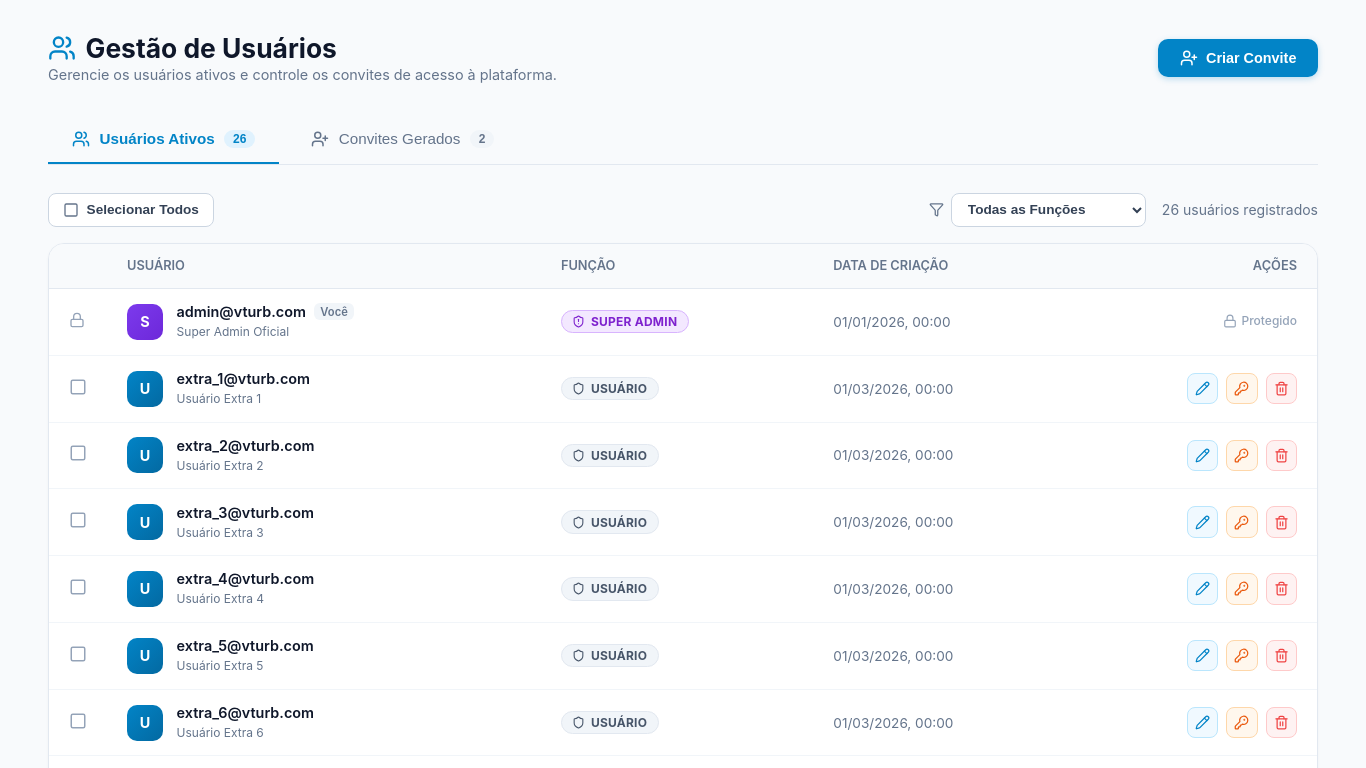
it: UserManagementView - Gestão de Usuários e Convites › seleciona globalmente todos os usuários mesmo que estejam em páginas diferentes
Click the button with test id "btn-select-all-users" at (131, 210), box [48,193,214,227]
(page scrolled)
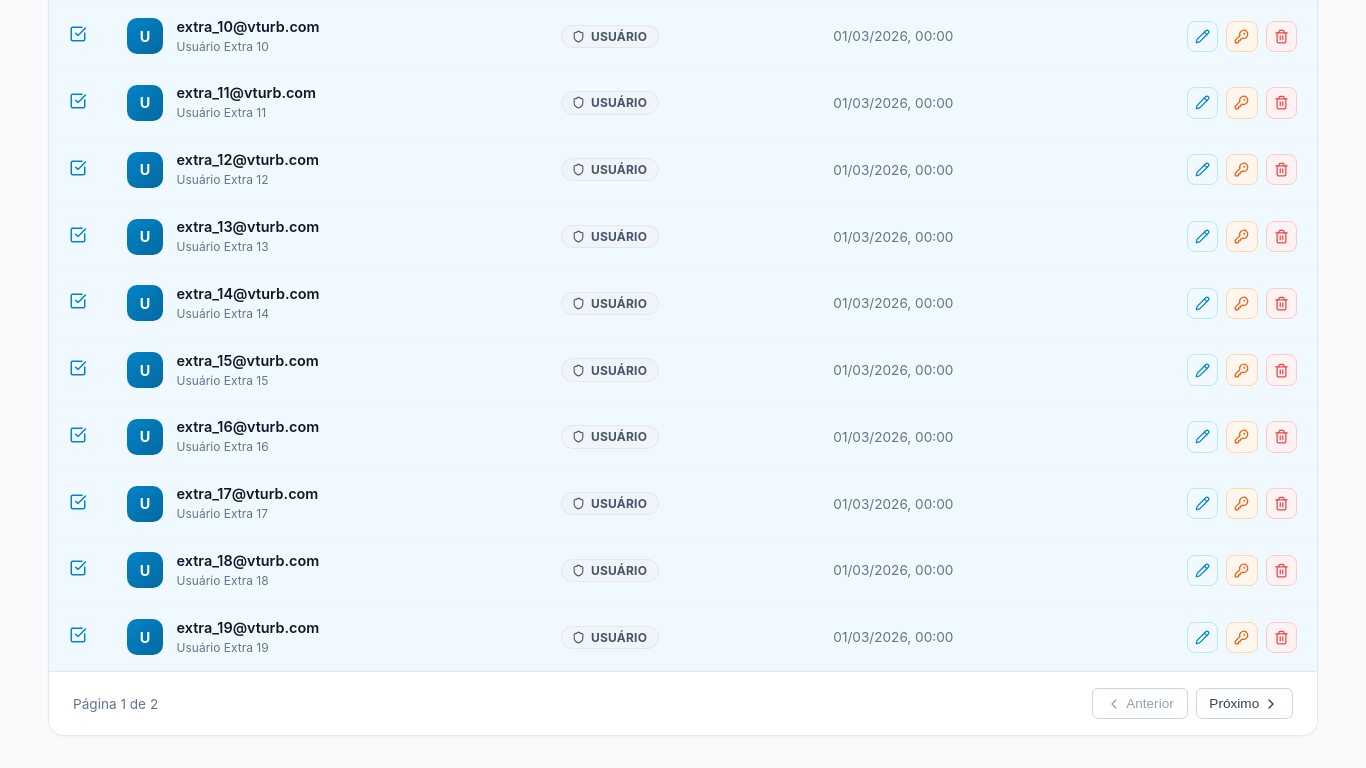
Note: Avança para a página 2
Click the button with test id "pagination-users-next" at (1244, 704), box [1196,688,1293,719]
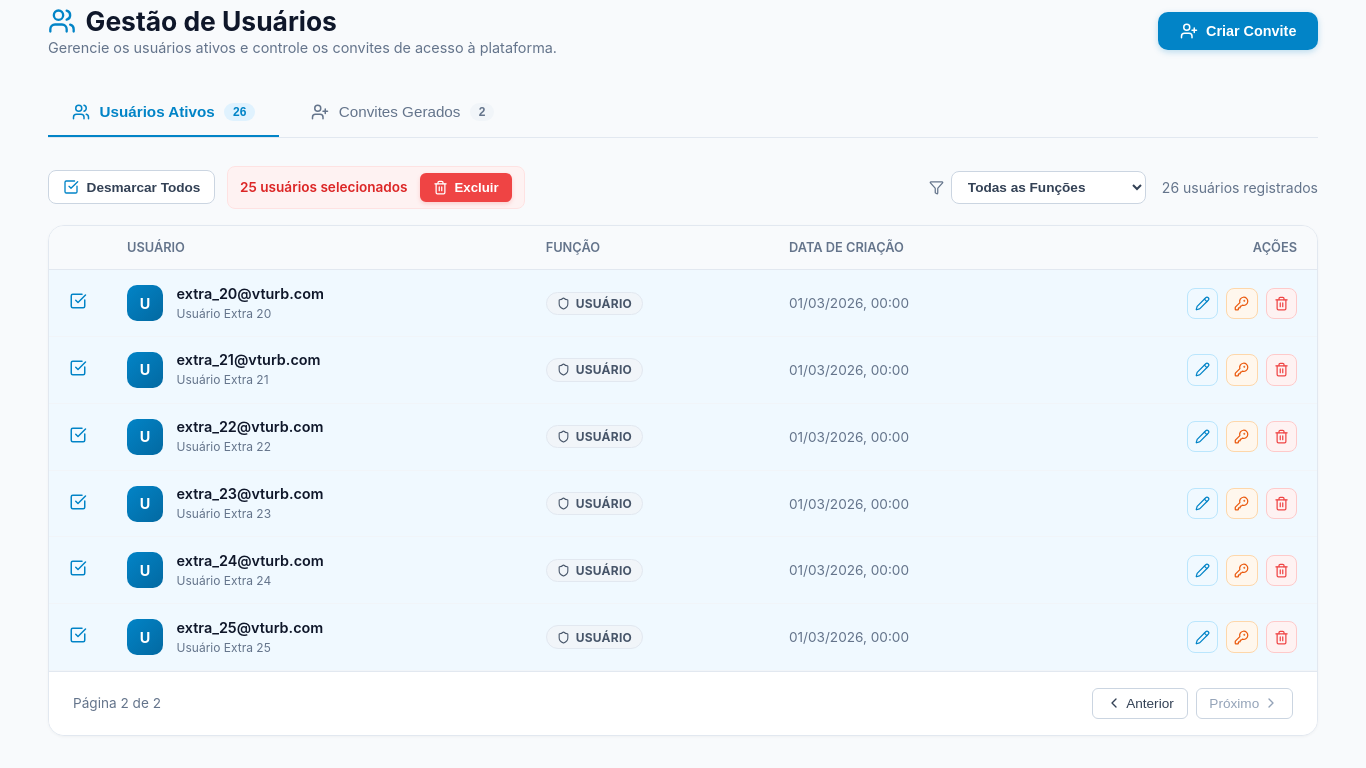
Expected: the button with test id "checkbox-user-user-extra-21" is shown, [69,359,87,380]
Click the button with test id "btn-select-all-users" at (132, 187), box [48,170,215,204]
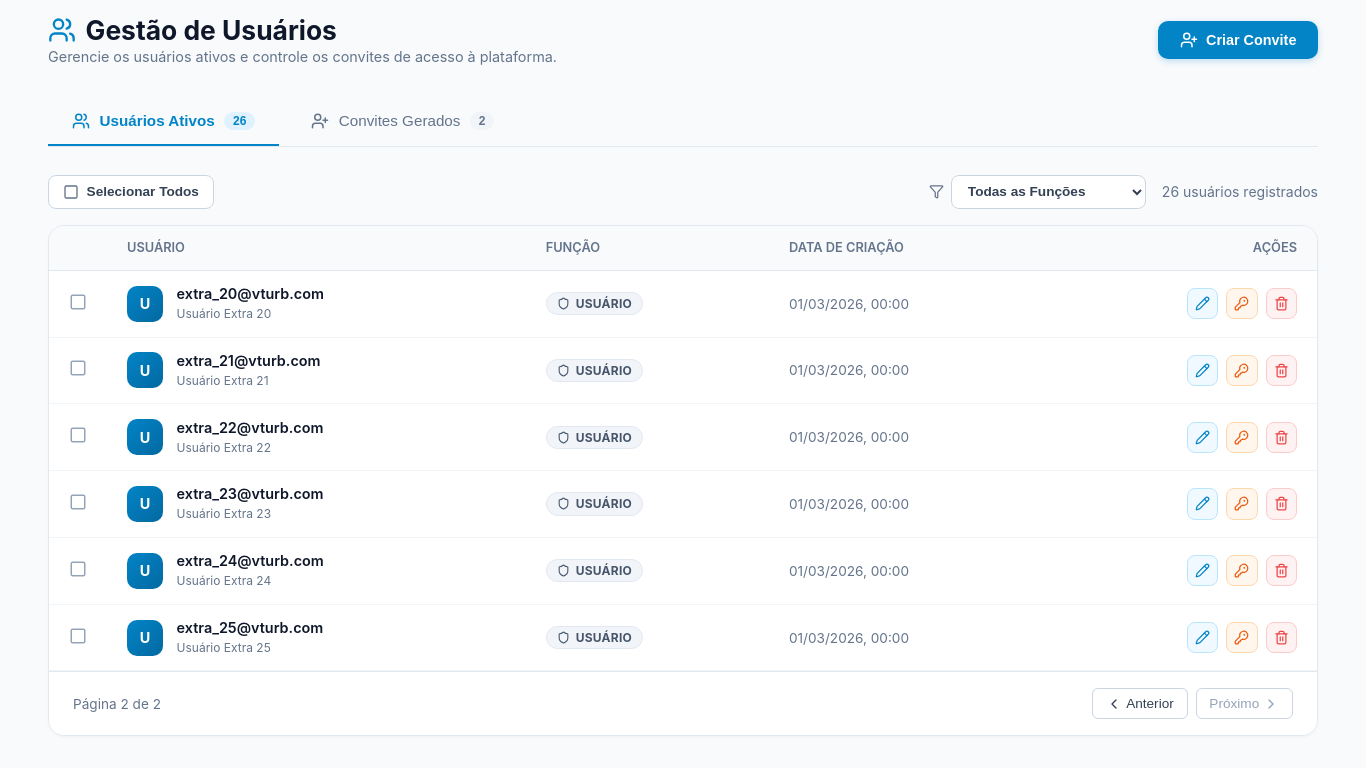
Expected: the element with test id "bulk-actions-bar" is gone
Expected: the button with test id "btn-select-all-users" reads "Selecionar Todos", [48,175,214,209]
